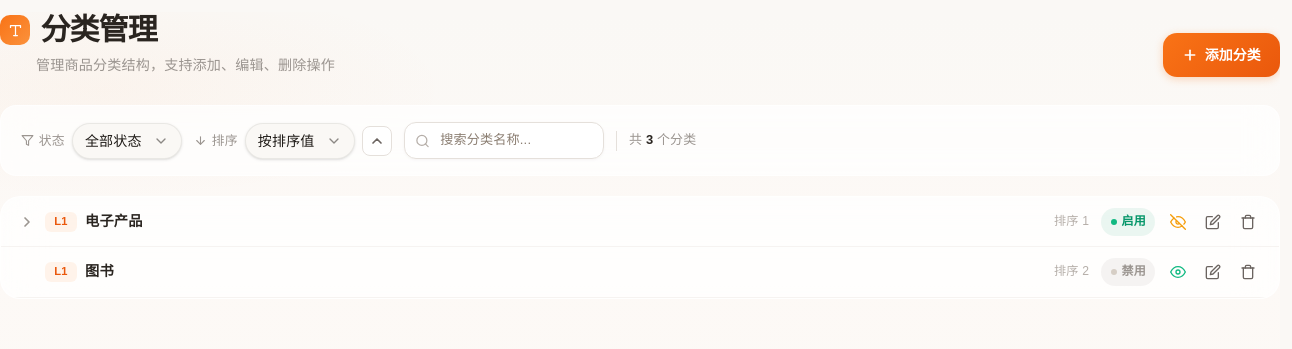
Test: CategoryManagePage › expands and collapses child categories
The image size is (1292, 349).
# Click to expand
Click the button named "展开".
click(27, 222)  # box [17,212,37,232]
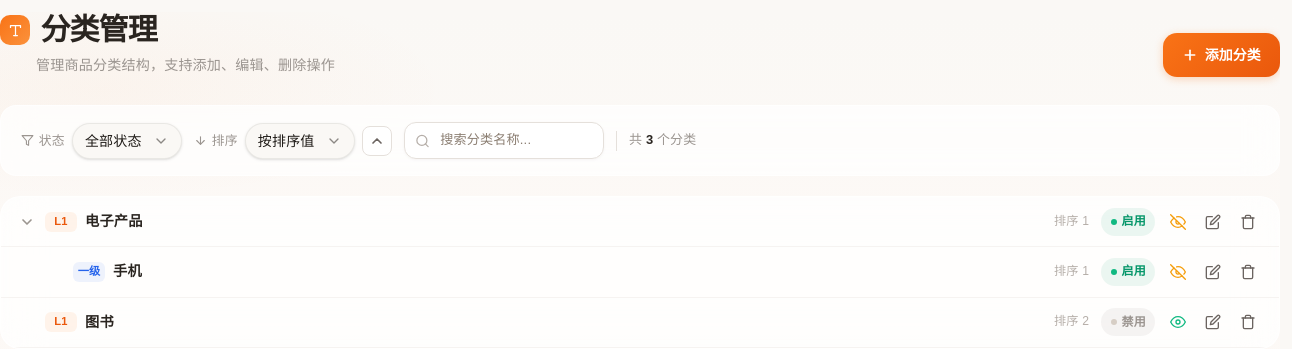
Now the button named "折叠" is shown
# Click to collapse
Click the button named "折叠".
click(27, 222)  # box [17,212,37,232]
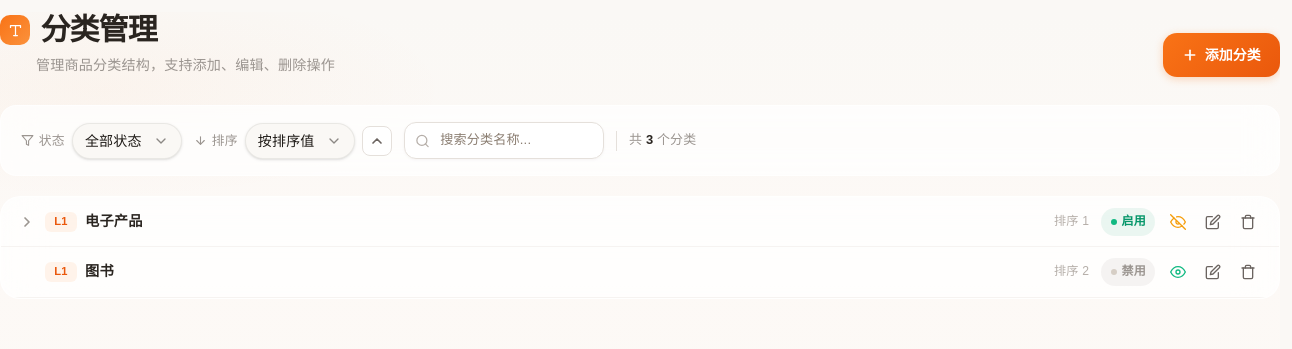
Now the button named "展开" is shown, box [17,212,37,232]
